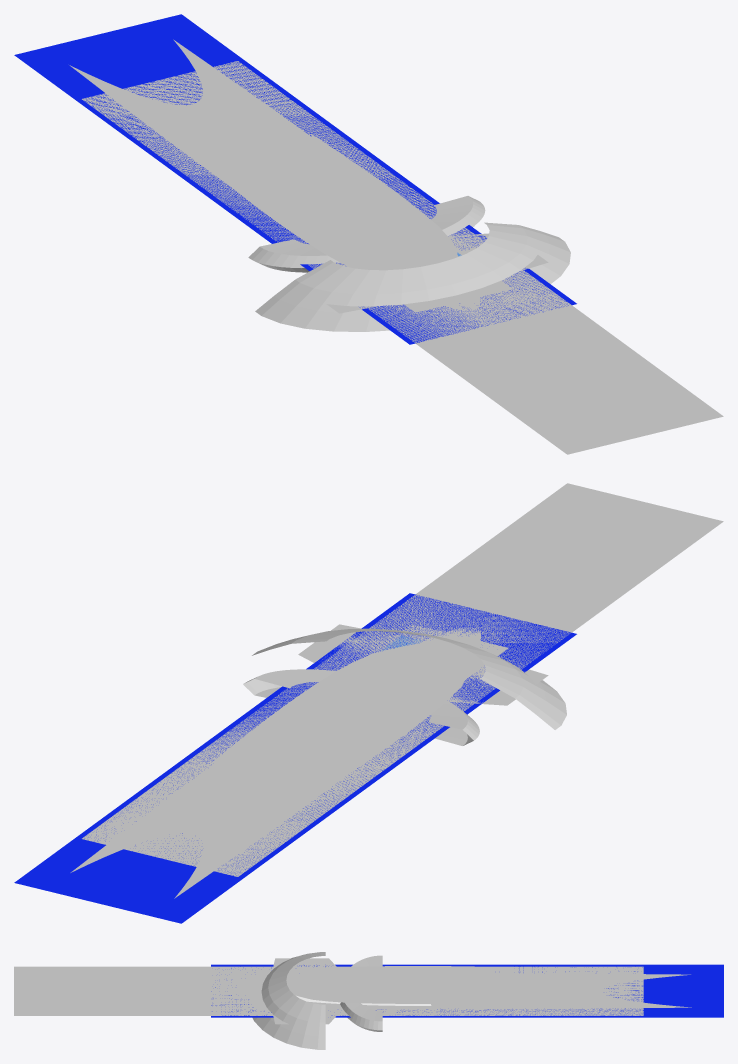
Rendered from pref_fx_Cramorant_spell02B_bullet_01_lv3.fbx.
3 views of the same model, one above another, from view 1: azimuth 30°, elevation 25°; view 2: azimuth 150°, elevation 25°; view 3: azimuth 270°, elevation 25° (orthographic). The views are drawn at different scales.
Parts seen in each view (by area): view 1: Glow_an_xxx, Glow_an_xingneng, UV_add, slash_uv, UV_blend, slash_liangbian_xxx, slah_xxx, UV_add_01; view 2: Glow_an_xxx, Glow_an_xingneng, UV_add, UV_blend, slash_uv, slash_liangbian_xxx, UV_add_01, slah_xxx; view 3: Glow_an_xxx, UV_add, Glow_an_xingneng, UV_blend, slash_uv, slash_liangbian_xxx, UV_add_01, slah_xxx.
Part boxes in pixels (x1,y1,x2,y2): Glow_an_xxx: [82, 61, 723, 454]; Glow_an_xingneng: [14, 14, 576, 344]; UV_add: [199, 134, 457, 270]; slash_uv: [255, 222, 570, 331]; UV_blend: [69, 39, 479, 310]; slash_liangbian_xxx: [248, 196, 485, 272]; slah_xxx: [404, 247, 512, 312]; UV_add_01: [326, 233, 548, 313]; Glow_an_xxx: [82, 483, 723, 876]; Glow_an_xingneng: [14, 593, 576, 923]; UV_add: [210, 641, 467, 791]; UV_blend: [70, 628, 480, 898]; slash_uv: [252, 628, 566, 729]; slash_liangbian_xxx: [243, 669, 479, 745]; UV_add_01: [298, 624, 548, 705]; slah_xxx: [377, 624, 508, 679]; Glow_an_xxx: [14, 966, 643, 1015]; UV_add: [286, 966, 512, 1003]; Glow_an_xingneng: [211, 964, 723, 1017]; UV_blend: [237, 973, 691, 1008]; slash_uv: [252, 952, 325, 1049]; slash_liangbian_xxx: [340, 955, 382, 1031]; UV_add_01: [273, 958, 338, 1024]; slah_xxx: [251, 976, 341, 1007].
Bounding box in the file's own units: 2.33 × 0.2432 × 7.28.
